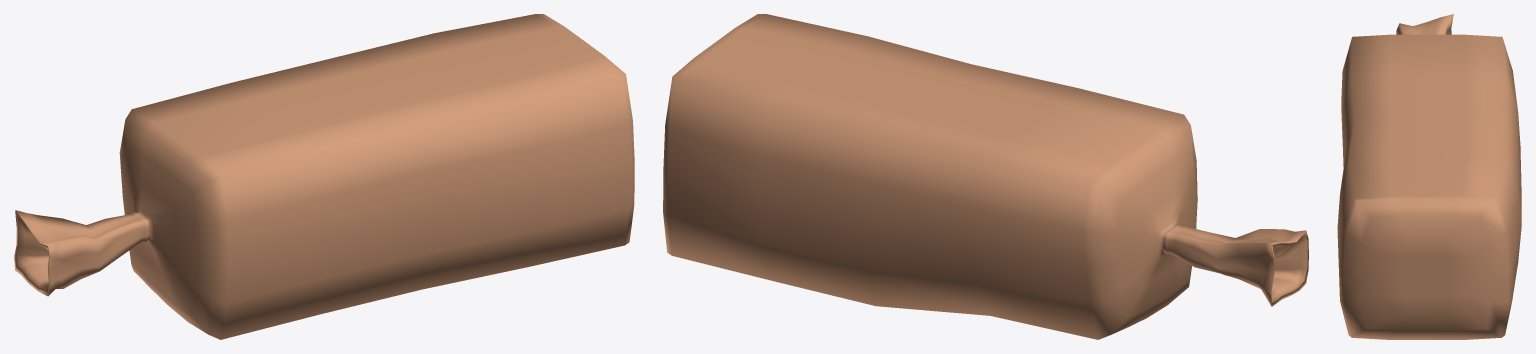
The model's file is BreadBag.fbx.
The picture shows the model from 3 angles, left to right: view 1: azimuth 30°, elevation 25°; view 2: azimuth 150°, elevation 25°; view 3: azimuth 270°, elevation 25°; orthographic projection. The views are drawn at different scales.
Parts seen in each view (by area): view 1: BreadBag; view 2: BreadBag; view 3: BreadBag.
Part boxes in pixels (x1,y1,x2,y2): BreadBag: (14,14,634,339); BreadBag: (663,14,1308,339); BreadBag: (1337,14,1521,339).
Bounding box in the file's own units: 188 × 53.61 × 63.31.
